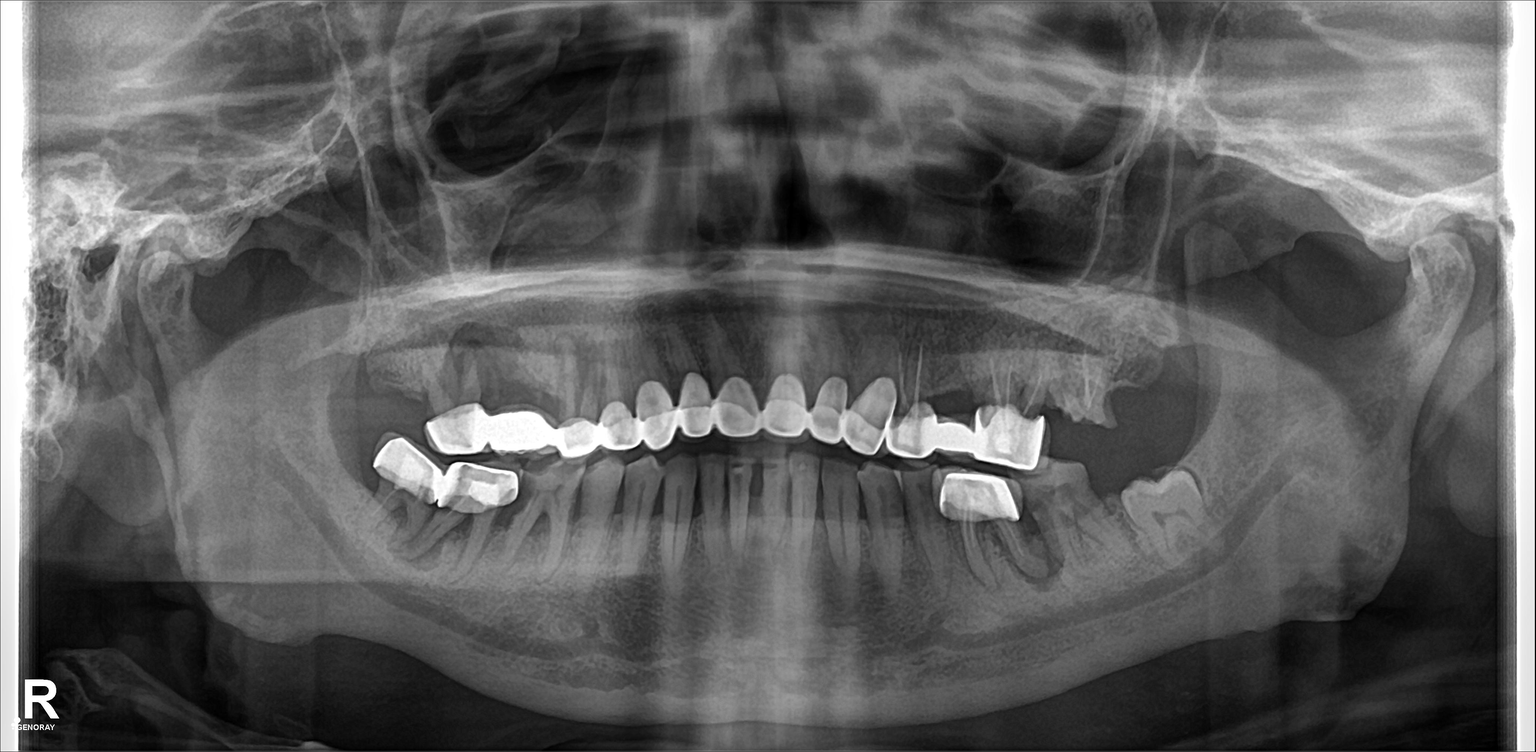Dental Caries: (1037, 469, 1091, 527)
Endodontically Treated Tooth: (943, 471, 1022, 593), (975, 344, 1044, 466), (432, 324, 495, 451), (374, 426, 439, 548), (886, 328, 940, 459), (626, 331, 681, 442)
Impacted Third Molar: (1127, 462, 1211, 566)
Missing Tooth: (352, 337, 425, 432), (1058, 344, 1114, 457), (1130, 342, 1187, 436)
